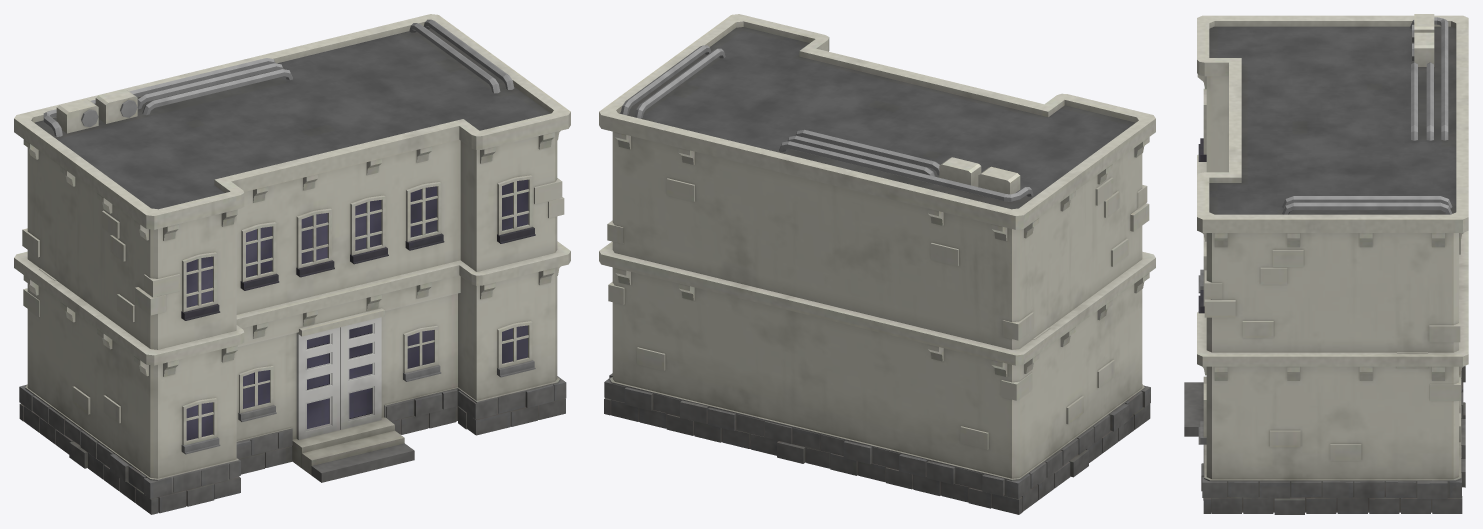
The model's file is 2Story_Wide.glb.
3 views of the same model, side by side, from view 1: azimuth 30°, elevation 25°; view 2: azimuth 150°, elevation 25°; view 3: azimuth 270°, elevation 25° (orthographic).
Visible parts, largest first — view 1: 2Story_Wide_high; view 2: 2Story_Wide_high; view 3: 2Story_Wide_high.
Boxes of the visible parts, left/top/right/bottom form: 2Story_Wide_high: left=14, top=14, right=570, bottom=514; 2Story_Wide_high: left=599, top=14, right=1155, bottom=514; 2Story_Wide_high: left=1184, top=14, right=1468, bottom=514.
Bounding box in the file's own units: 3.83 × 2.75 × 2.26.
2 materials, 2 textured.
